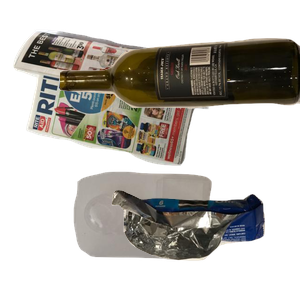glass: (60, 36, 300, 147)
paper: (11, 27, 213, 185)
plastic: (71, 169, 275, 300)
trash: (109, 187, 300, 300)
